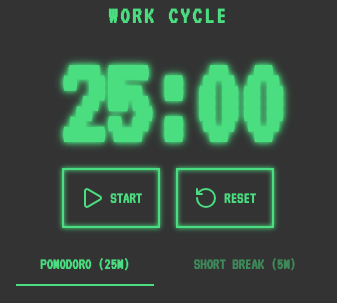
Scenario: Timer › switches between work and break modes
Expected: the heading with test id "timer-mode" reads "WORK CYCLE", 108,4 -> 228,28
Click the button with test id "timer-break-mode" at (245, 265), box 170,244 -> 320,286
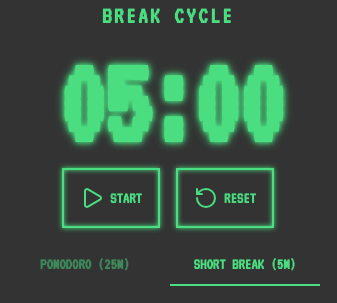
Expected: the heading with test id "timer-mode" reads "BREAK CYCLE", 102,4 -> 234,28
Expected: the text with test id "timer-display" reads "05:00", 56,40 -> 280,168
Click the button with test id "timer-work-mode" at (85, 265), box 16,244 -> 154,286
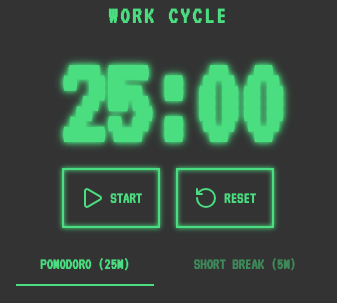
Expected: the heading with test id "timer-mode" reads "WORK CYCLE", 108,4 -> 228,28
Expected: the text with test id "timer-display" reads "25:00", 56,40 -> 280,168
